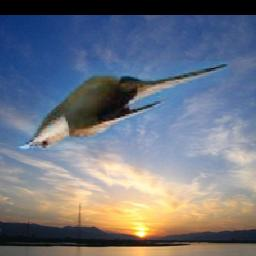Cuckoo: (18, 61, 230, 151)
